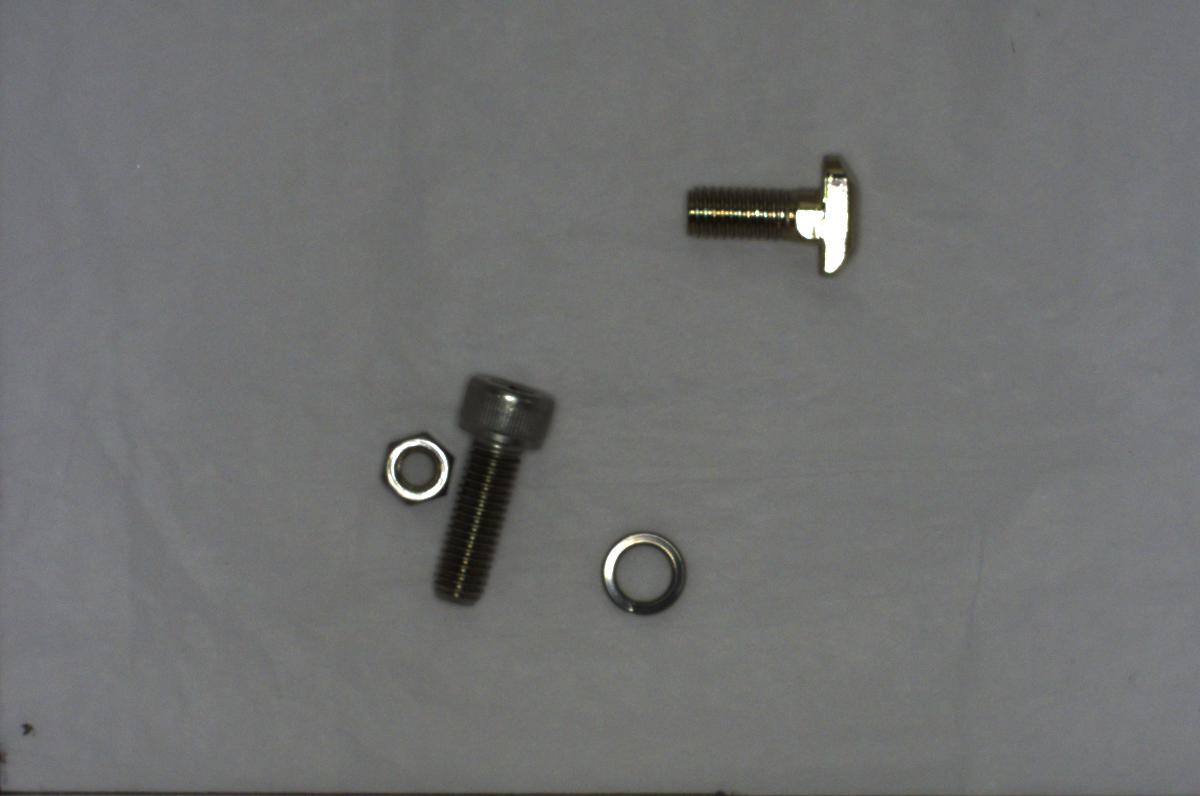Hexagon nut: (370, 421, 459, 507)
Hexagon screw: (424, 360, 558, 610)
Spring washer: (594, 525, 691, 621)
T-shaped screw: (674, 148, 861, 286)
